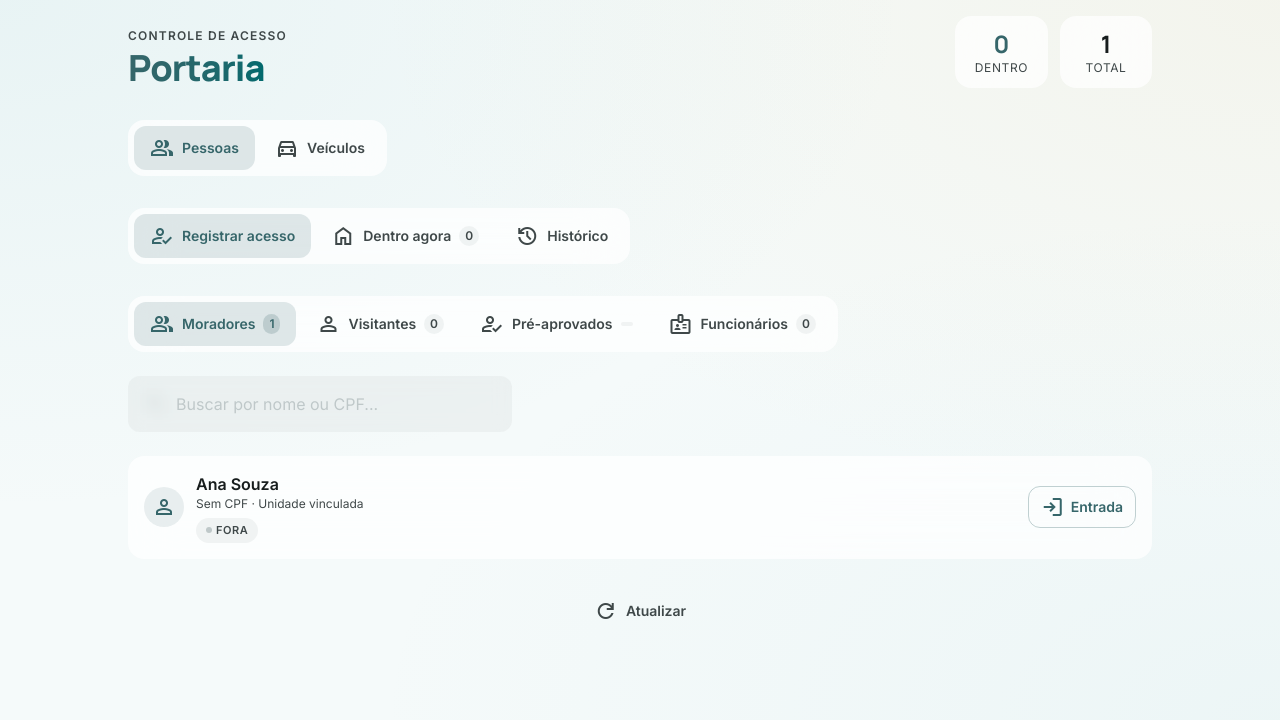
Test: Portaria — navegação entre abas › volta de Veículos para Pessoas
Expected: the button "Moradores 1" is shown, [134,302,296,346]
Click the button "Veículos". click: [320, 148]
box: [259,126,381,170]
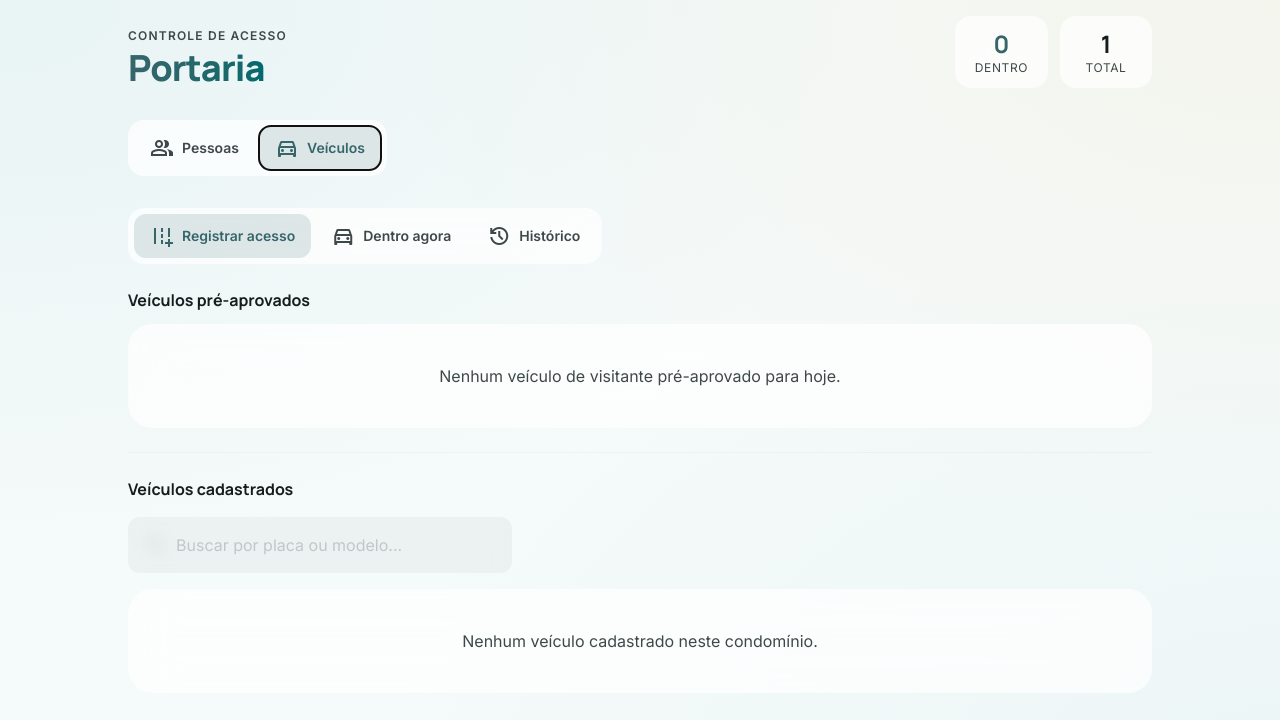
Click the button "Pessoas". click: [194, 148]
box: [134,126,255,170]
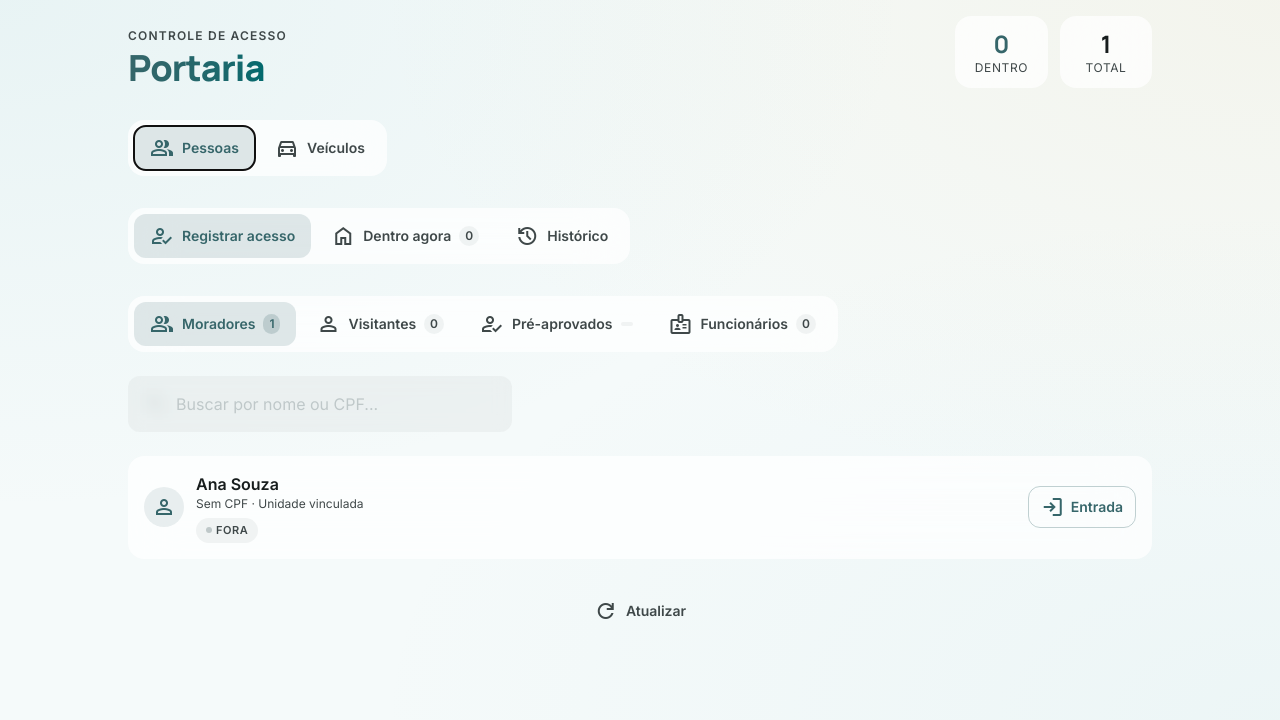
Expected: the button "Moradores 1" is shown, [134,302,296,346]
